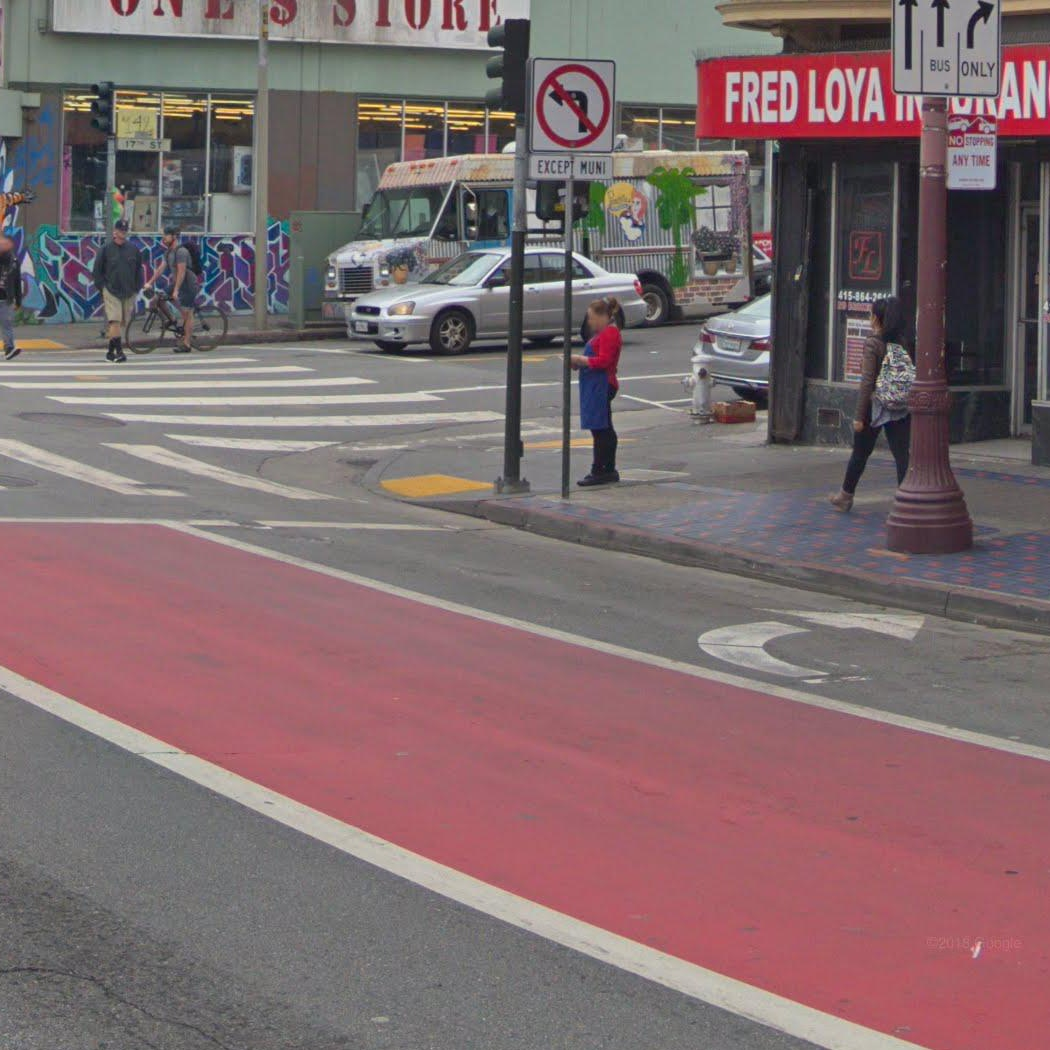No Parking Anytime: (946, 114, 997, 190)
